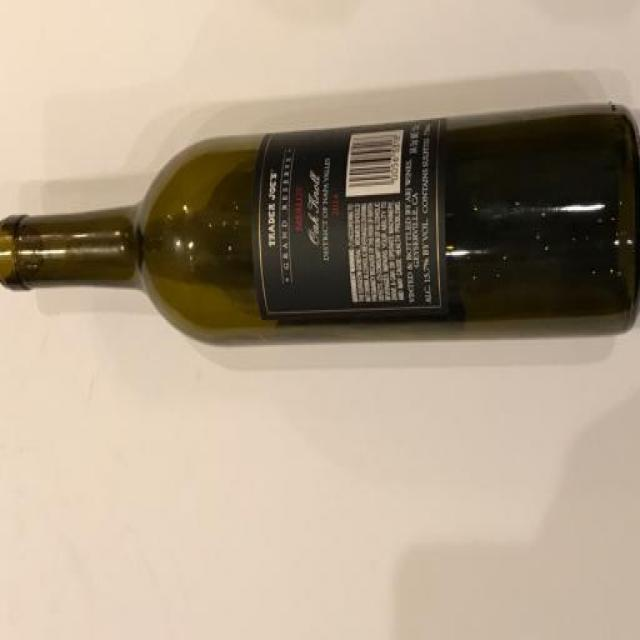glass: (3, 88, 640, 418)
